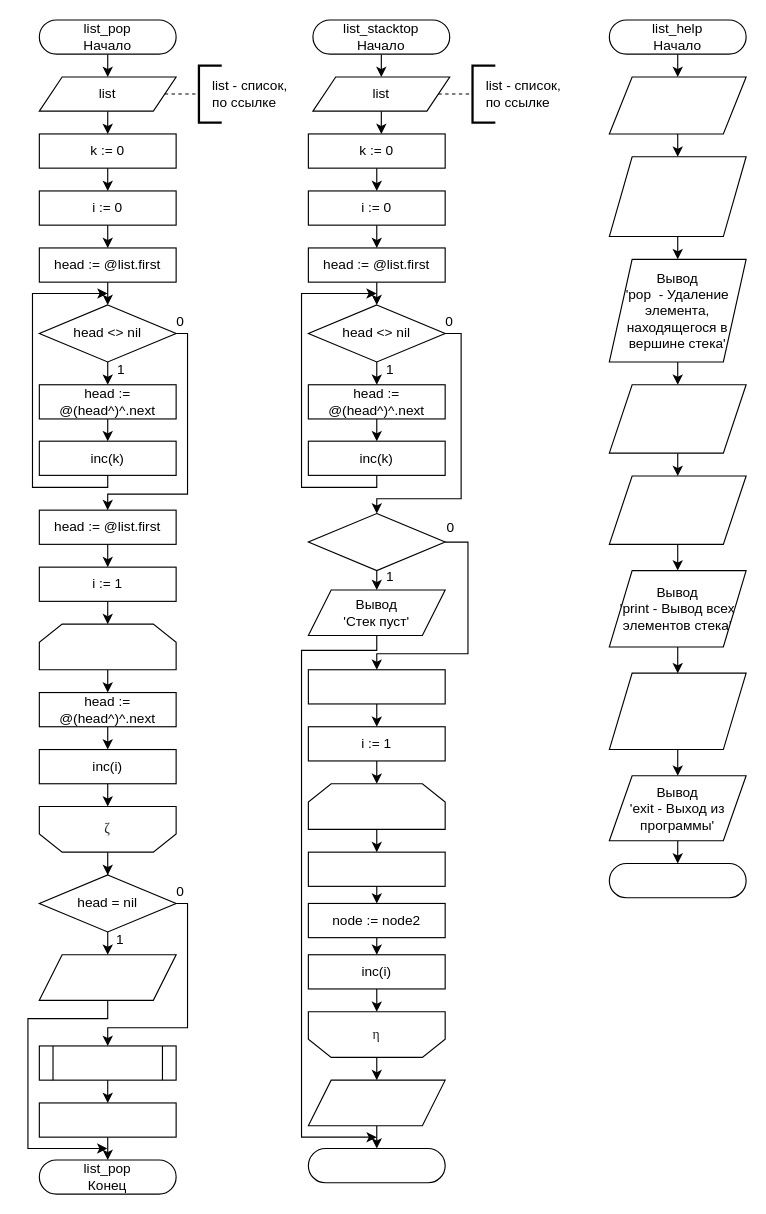
Image size: 766x1214. Some labels were removed from this diagram. The box of each missing label's shape, as (x1, y1, x2, y2) in pixels:
head^ := nil: (38, 1102, 176, 1137)
k = 0: (307, 512, 445, 571)
list_help Конец: (608, 862, 746, 898)
list_stacktop Конец: (307, 1147, 445, 1183)
list_stacktop(list): (38, 1045, 176, 1080)
node := list.first: (307, 669, 445, 704)
node2 := node^.next: (307, 851, 445, 886)
ζ i = k -1: (38, 623, 176, 670)
η i = k -1: (307, 783, 445, 829)
Вывод 'clear - Очистка стека': (608, 672, 746, 750)
Вывод 'empty - Определение пустоты стека': (608, 475, 746, 544)
Вывод 'help - Список команд': (608, 76, 746, 134)
Вывод 'push <value> - Добавление элемента в стек': (608, 156, 746, 237)
Вывод 'stacktop - Просмотр элемента в вершине стека': (608, 384, 746, 453)
Вывод 'Стек уже пуст': (38, 954, 176, 1000)
Вывод node^.value: (307, 1079, 445, 1126)
